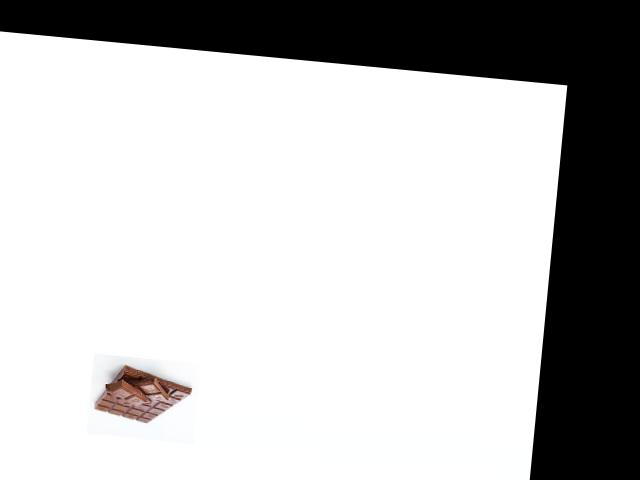chocolate: (91, 358, 195, 431)
